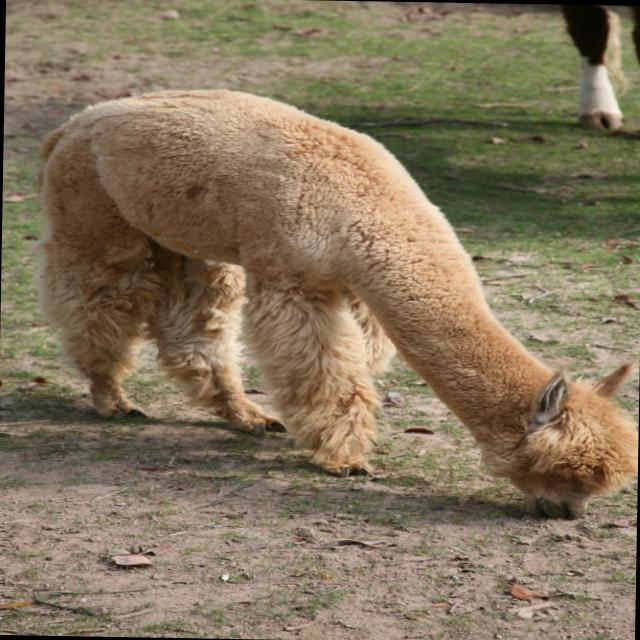alpaca: (43, 83, 640, 518)
